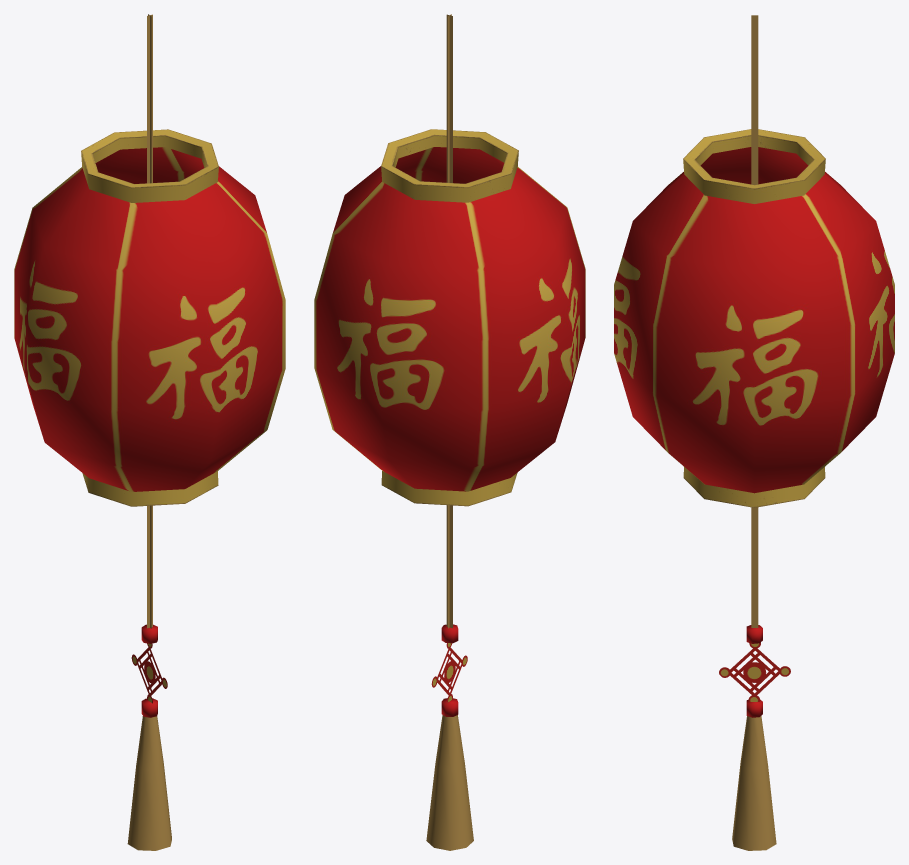
File: lantern04.fbx
3 views of the same model, side by side, from view 1: azimuth 30°, elevation 25°; view 2: azimuth 150°, elevation 25°; view 3: azimuth 270°, elevation 25° (orthographic).
Visible parts, largest first — view 1: lantern04; view 2: lantern04; view 3: lantern04.
Boxes of the visible parts, <box> form: lantern04: <box>14,14,285,850</box>; lantern04: <box>314,14,585,850</box>; lantern04: <box>614,15,894,850</box>.
Size of the model in its own units: 60 by 195 by 60.
